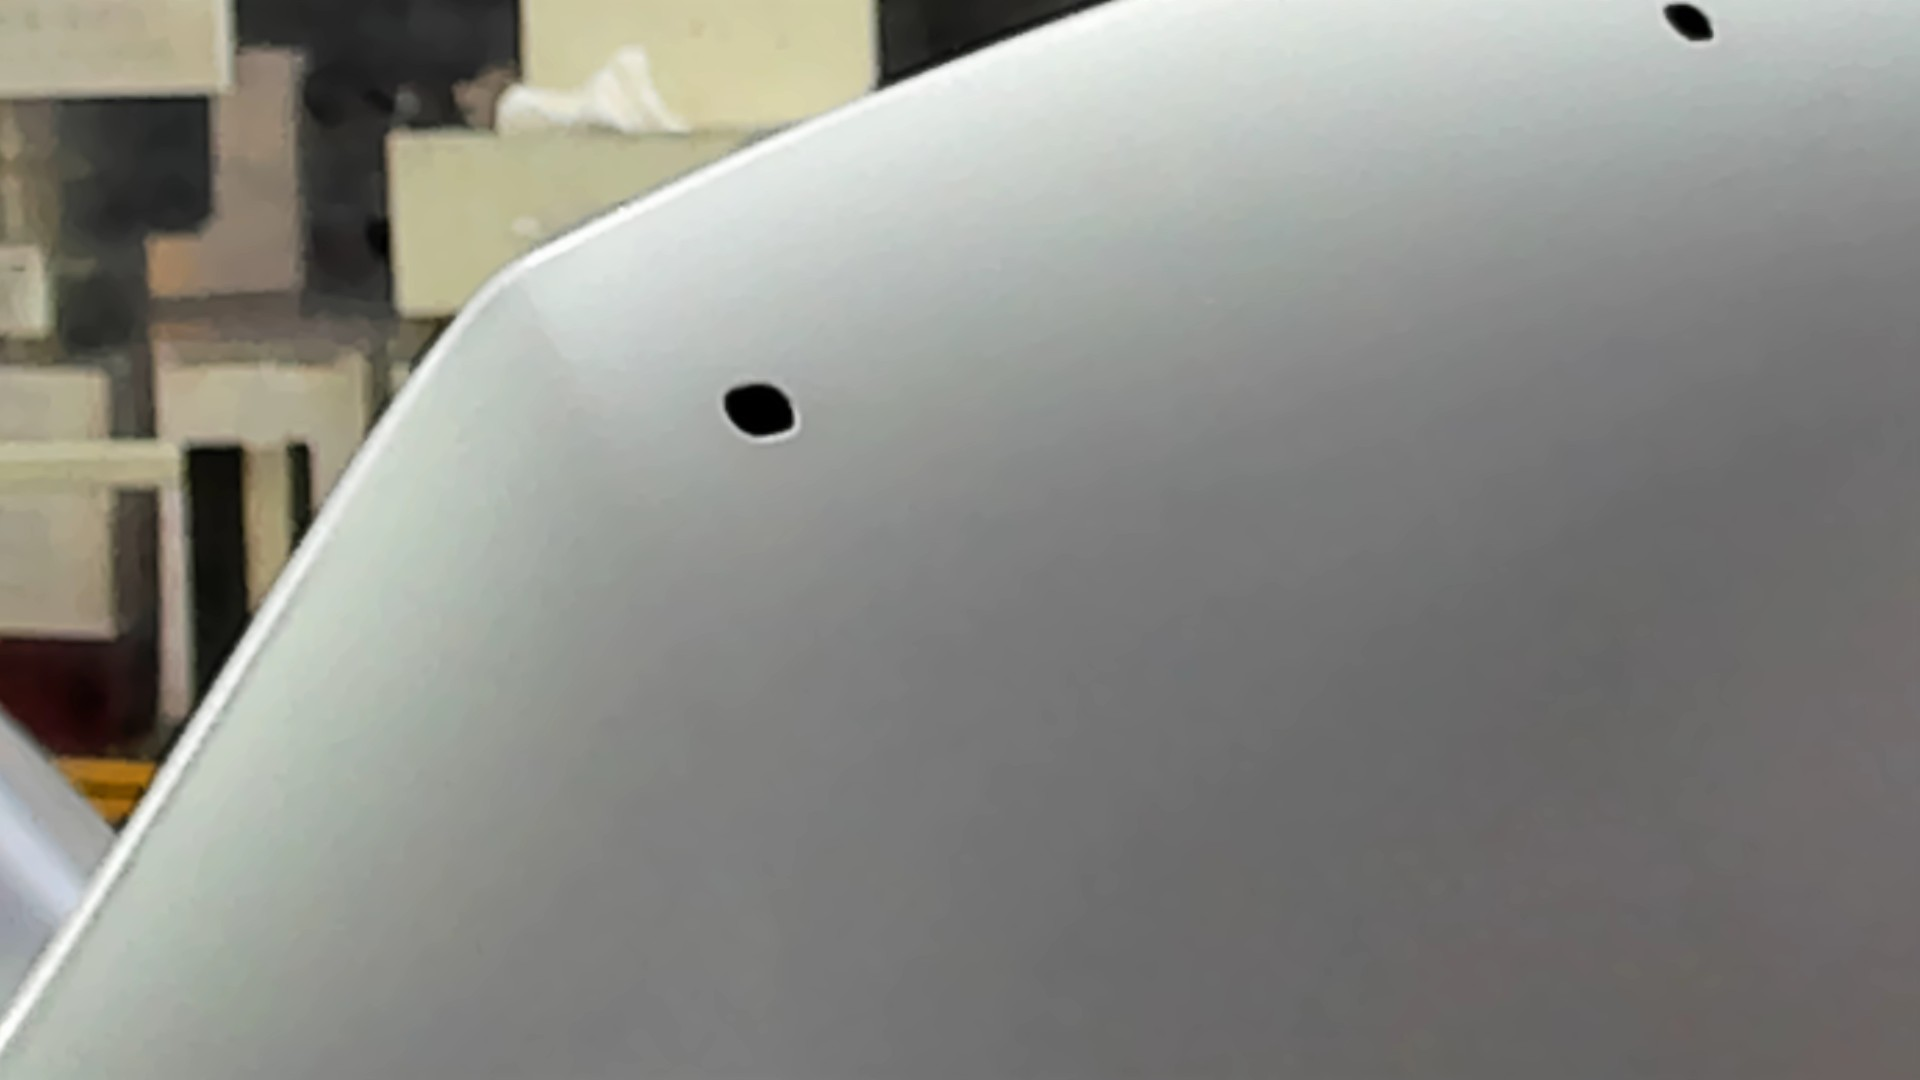amorfo: (716, 381, 804, 442), (1656, 1, 1721, 46)
